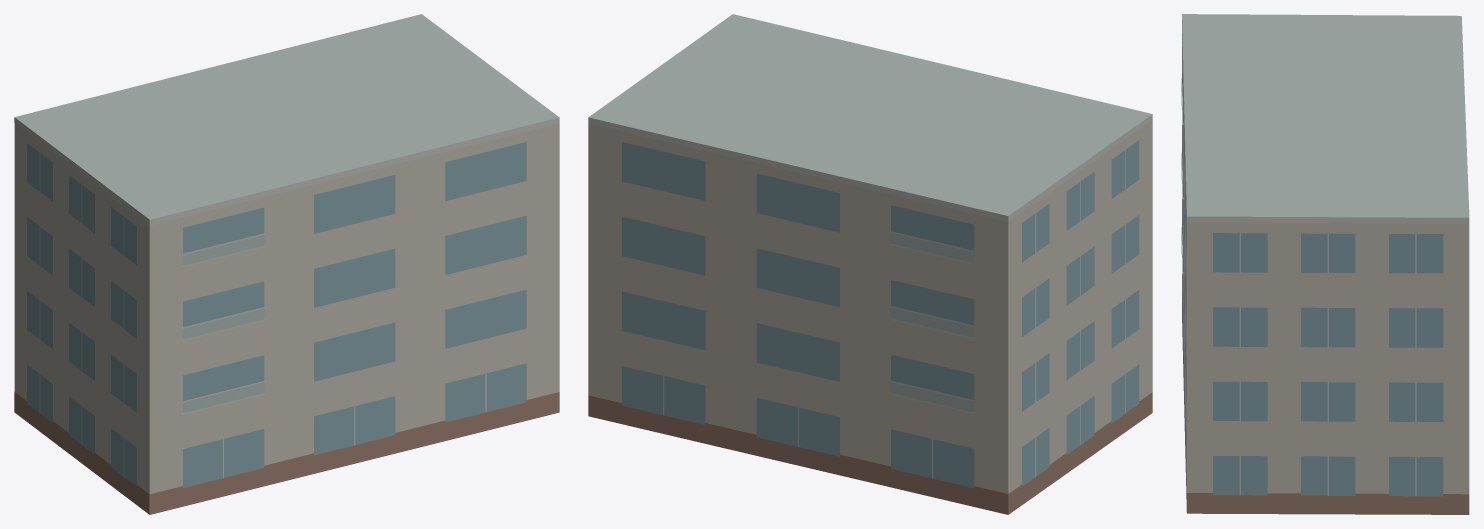
File: survey-upis-32927721.glb
3 renders of one model, left to right at view 1: azimuth 30°, elevation 25°; view 2: azimuth 150°, elevation 25°; view 3: azimuth 270°, elevation 25°, orthographic.
Parts seen in each view (by area): view 1: survey-upis-32927721.tmp; view 2: survey-upis-32927721.tmp; view 3: survey-upis-32927721.tmp.
Part boxes in pixels (bbox=[...]): survey-upis-32927721.tmp: bbox=[14, 14, 559, 514]; survey-upis-32927721.tmp: bbox=[588, 14, 1152, 514]; survey-upis-32927721.tmp: bbox=[1181, 14, 1469, 514].
Size of the model in its own units: 17.95 by 12.2 by 10.73.
